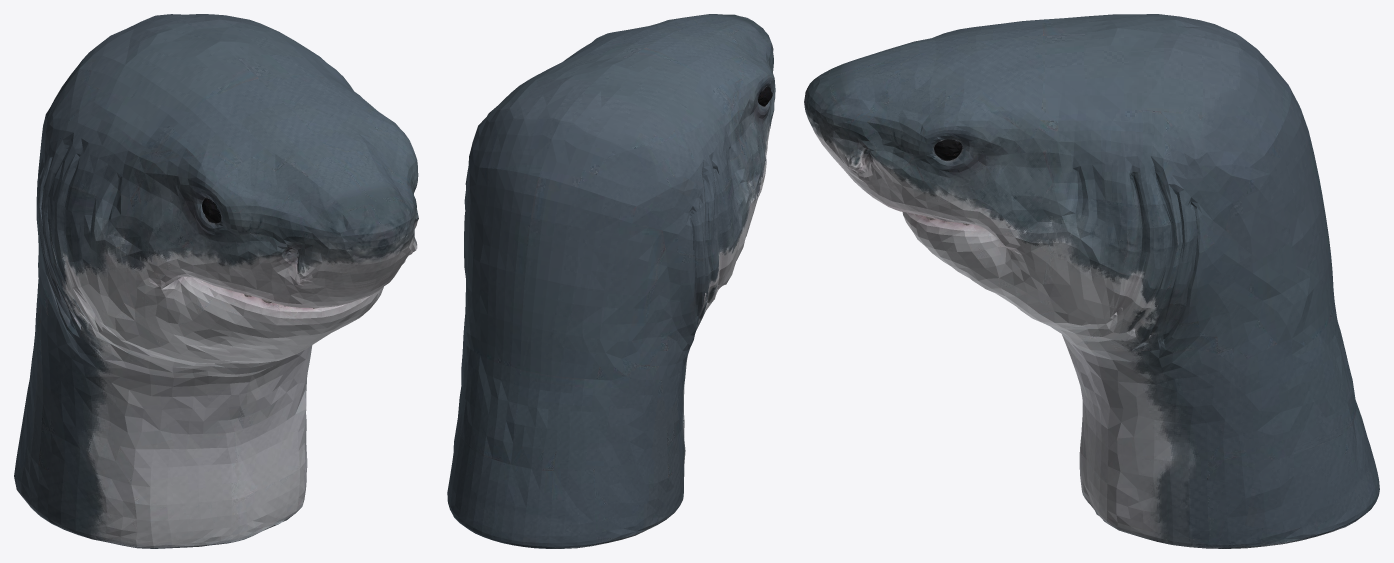
The model's file is ewm_sharkhead.glb.
3 views of the same model, side by side, from view 1: azimuth 30°, elevation 25°; view 2: azimuth 150°, elevation 25°; view 3: azimuth 270°, elevation 25° (orthographic). The views are drawn at different scales.
Visible parts, largest first — view 1: ewm_sharkhead; view 2: ewm_sharkhead; view 3: ewm_sharkhead.
Boxes of the visible parts, x1,y1,x2,y2 form: ewm_sharkhead: [14, 14, 418, 548]; ewm_sharkhead: [447, 14, 775, 548]; ewm_sharkhead: [804, 14, 1379, 548].
Size of the model in its own units: 0.261 by 0.4095 by 0.4585.
Materials: 1 (1 with a texture image).
